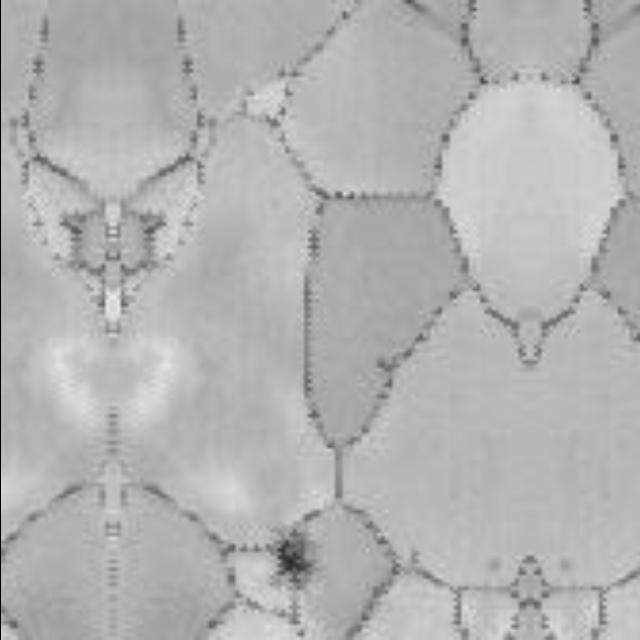good_void: (266, 526, 319, 590)
